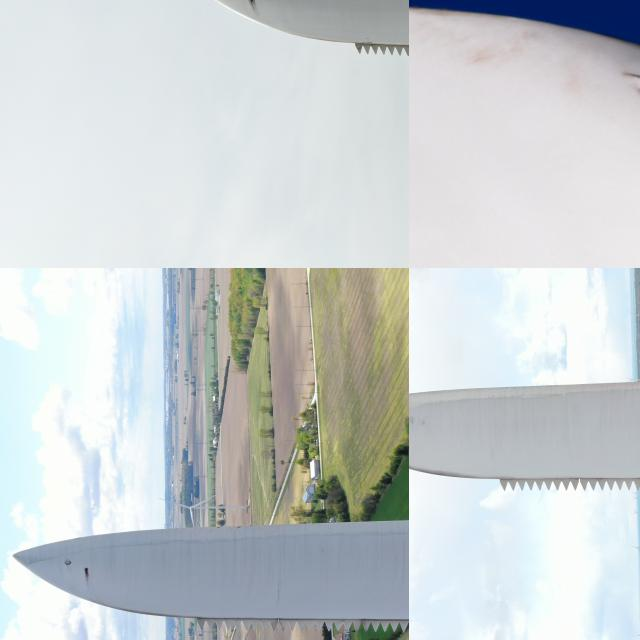damage: (78, 567, 92, 586), (245, 0, 256, 4)
